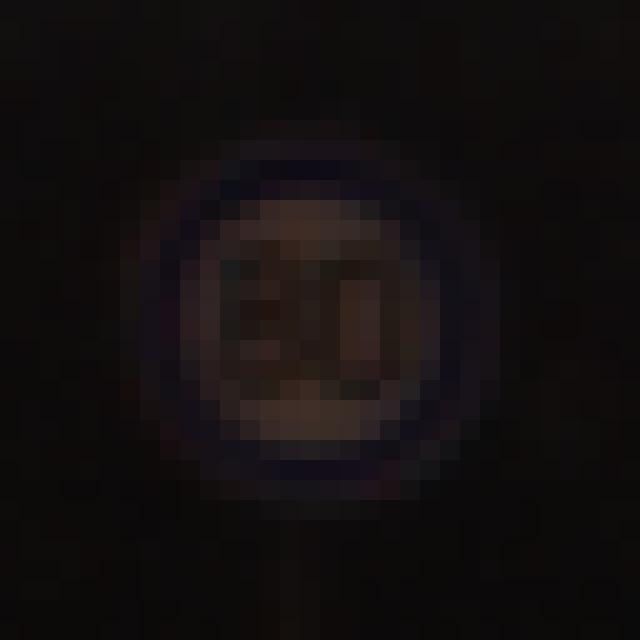SPEED-LIMIT-80: (120, 147, 478, 491)
